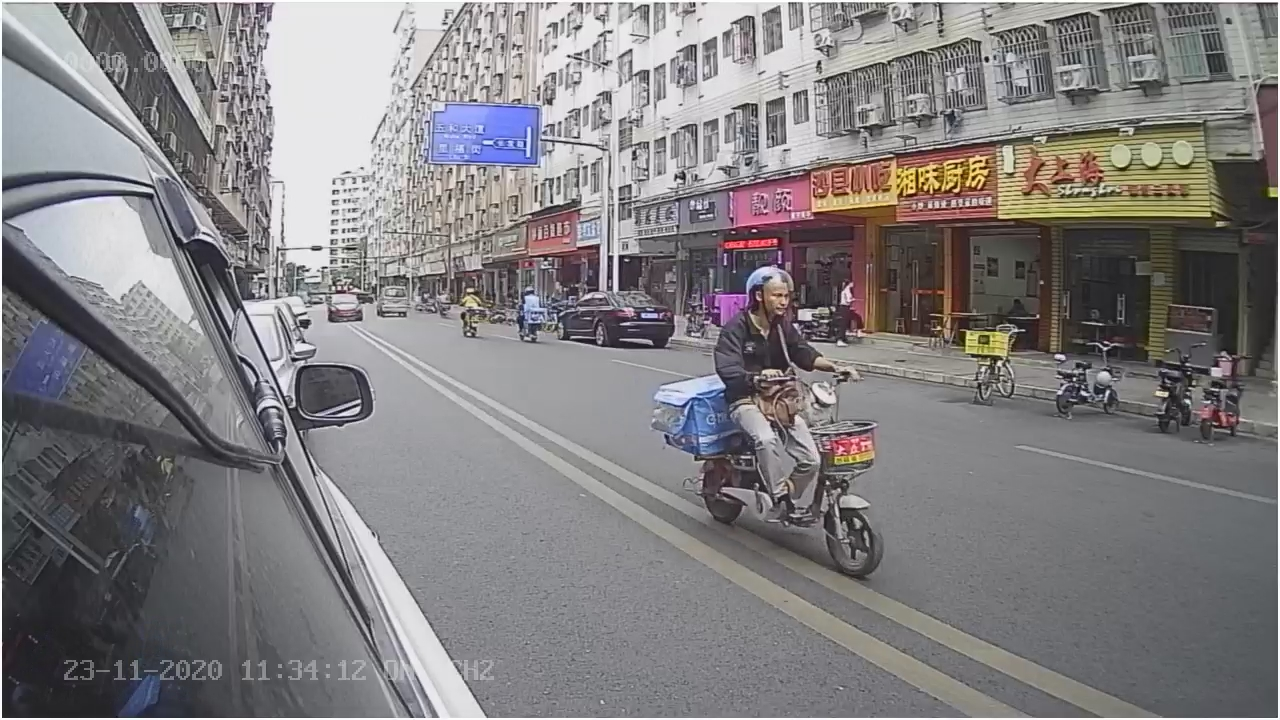person: (710, 261, 831, 386)
